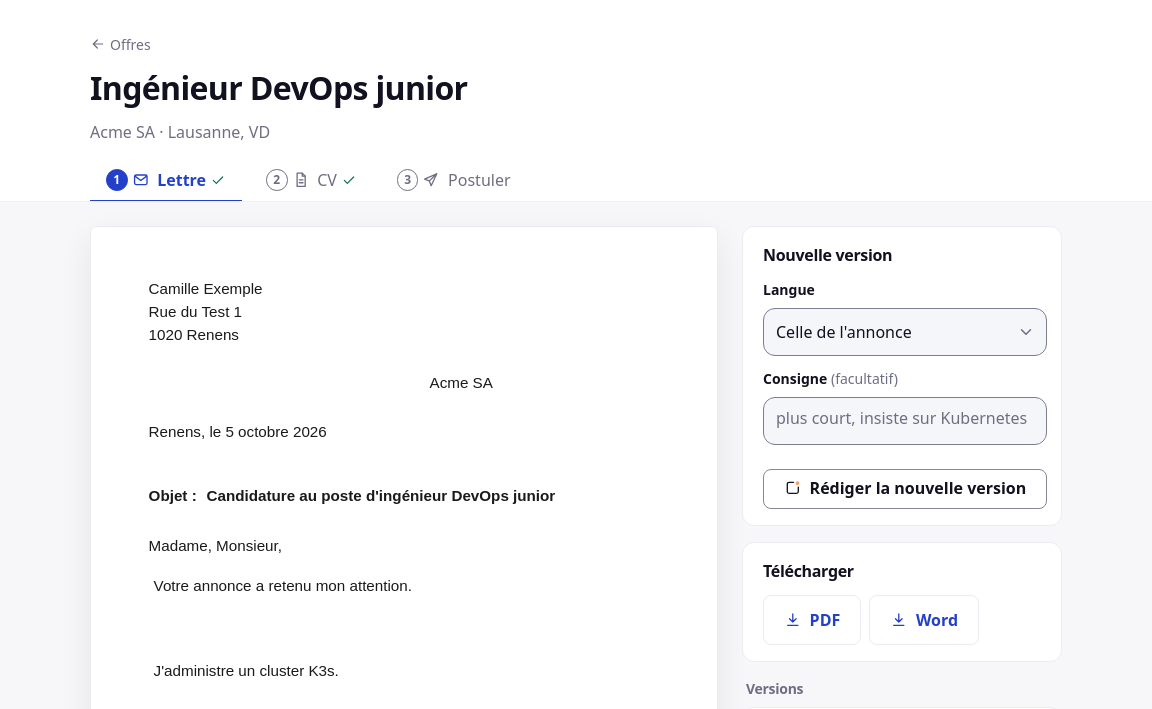
Test: PreparationView › la version modifiée en dernier est celle affichée ; les corrections s'enregistrent
Replace the text in the field with test id "subject" with "Candidature" at (430, 496), box [202,472,659,520]
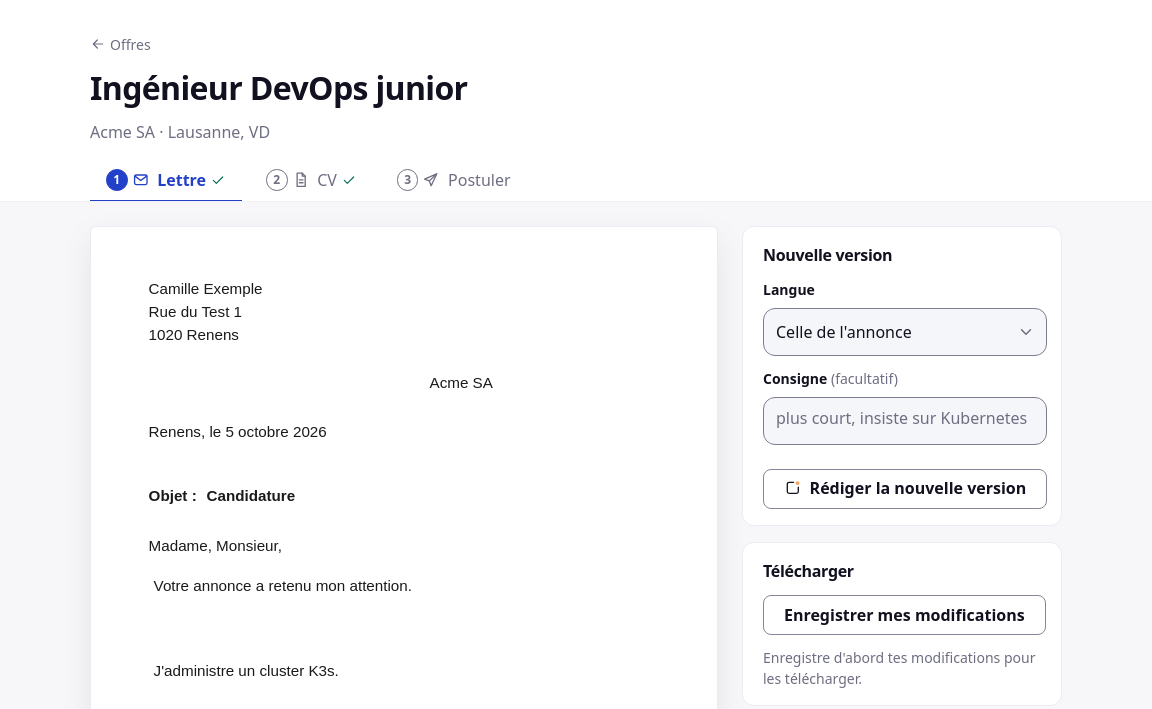
Click the button with test id "save-letter" at (904, 615), box [763,595,1046,635]
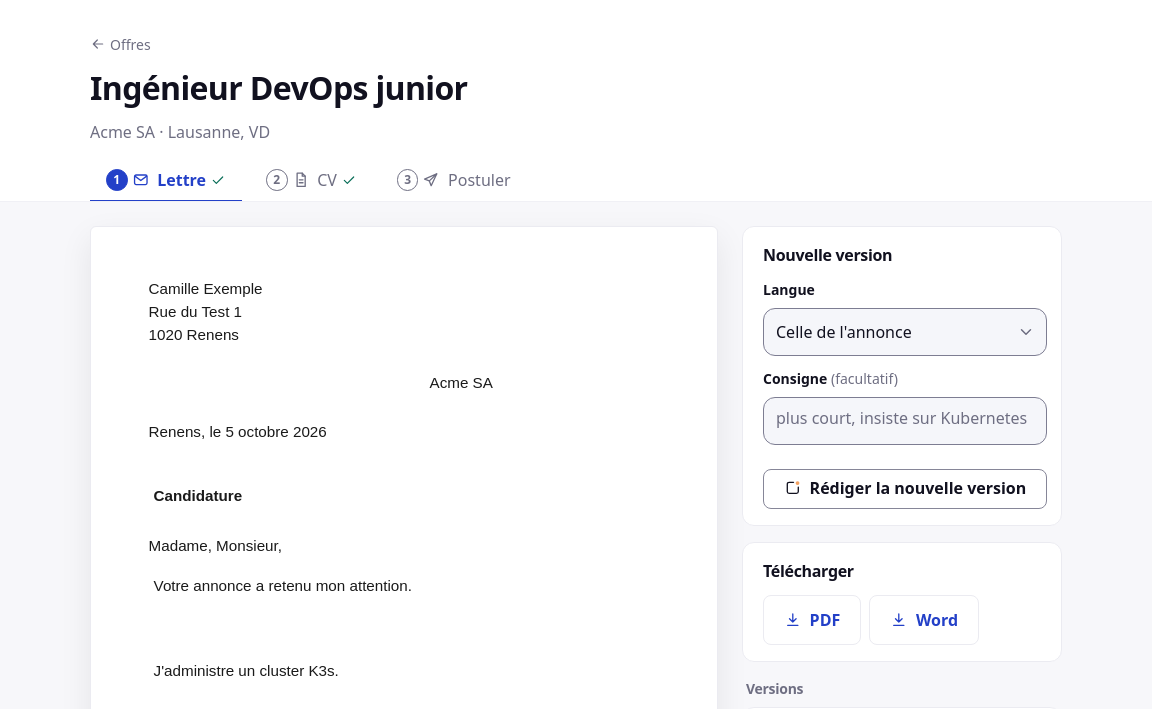
Now the link with test id "docx" is shown, box [869,595,979,645]
